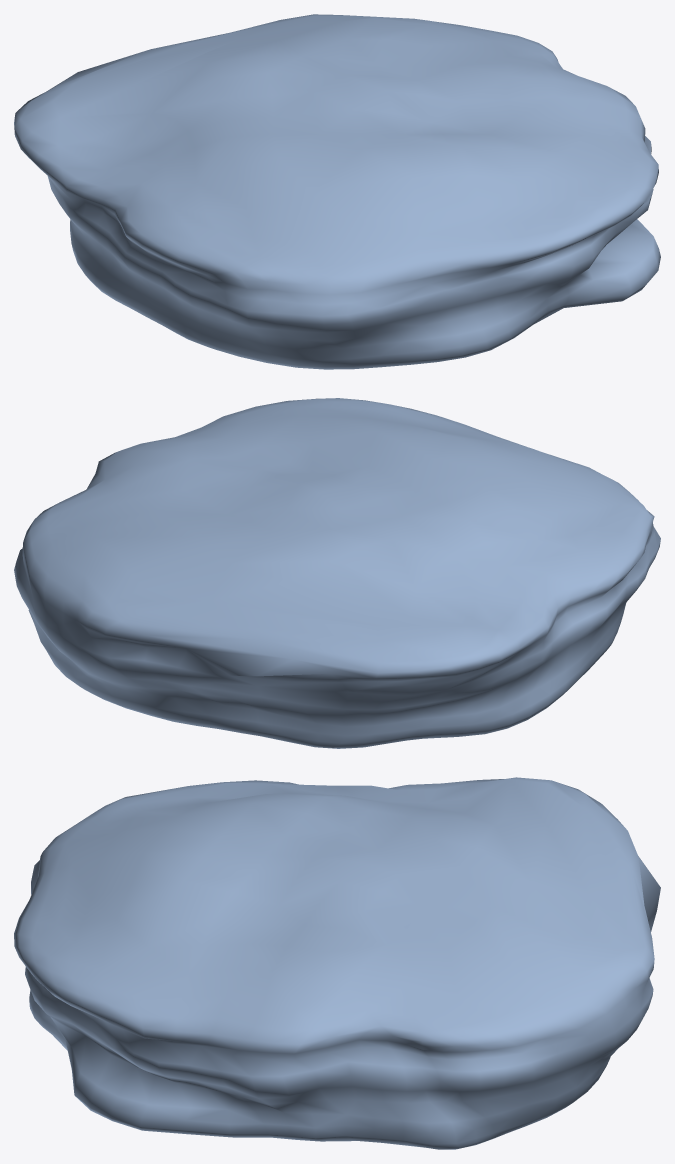
File: junRoadPlatform30.fbx
The picture shows the model from 3 angles, top to bottom: view 1: azimuth 30°, elevation 25°; view 2: azimuth 150°, elevation 25°; view 3: azimuth 270°, elevation 25°; orthographic projection. The views are drawn at different scales.
Parts seen in each view (by area): view 1: platform30_LOD0; view 2: platform30_LOD0; view 3: platform30_LOD0.
Part boxes in pixels (bbox=[...]): platform30_LOD0: bbox=[14, 14, 660, 369]; platform30_LOD0: bbox=[14, 398, 660, 748]; platform30_LOD0: bbox=[14, 777, 660, 1149].
Size of the model in its own units: 3274 by 1080 by 3336.
